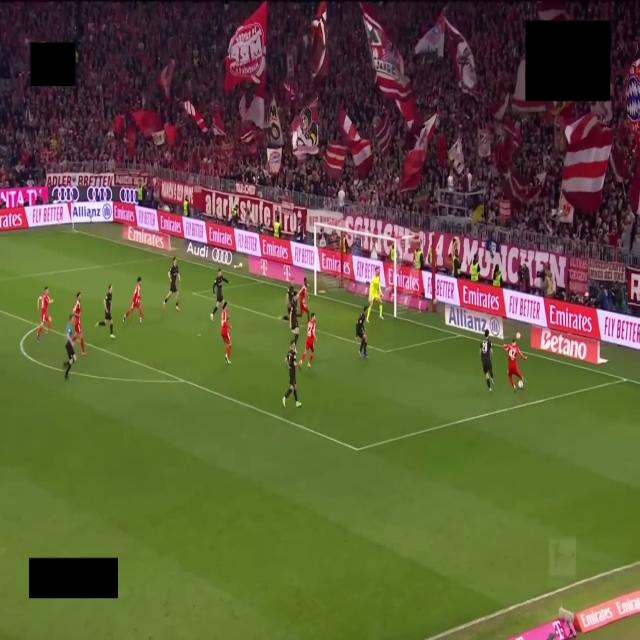ball: (518, 380, 523, 389)
player: (282, 341, 301, 407), (503, 339, 526, 391), (96, 285, 114, 338), (163, 257, 180, 311), (123, 277, 143, 322), (211, 270, 228, 321), (480, 330, 494, 391), (367, 268, 383, 321), (73, 292, 86, 355), (301, 313, 316, 367), (37, 287, 52, 340), (220, 302, 232, 364), (298, 278, 311, 323), (356, 306, 367, 359), (282, 285, 296, 321), (289, 296, 299, 343)
referee: (63, 314, 75, 379)
